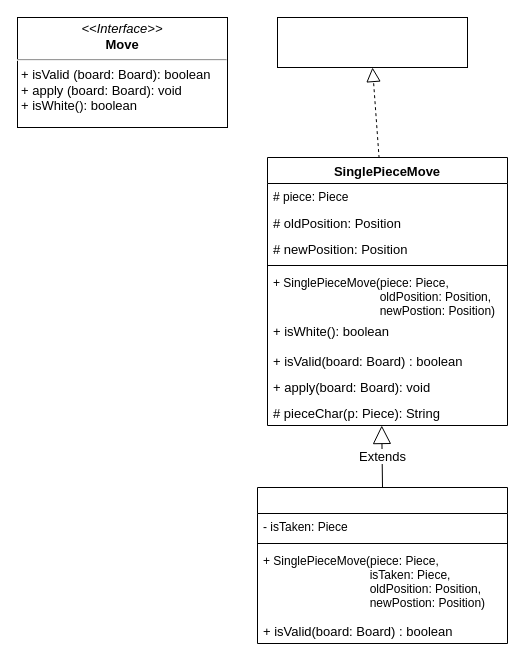
The diagram is 525 pixels wide and 664 high, and some of its shapes have lost their labels. The shapes that lost their labels are listed below. From the top down, each one's box as (x1, y1, x2, y2) in pixels, then its label:
(276, 16, 468, 68): <<Interface>> MultiPieceMove
(256, 486, 508, 644): SinglePieceTake
